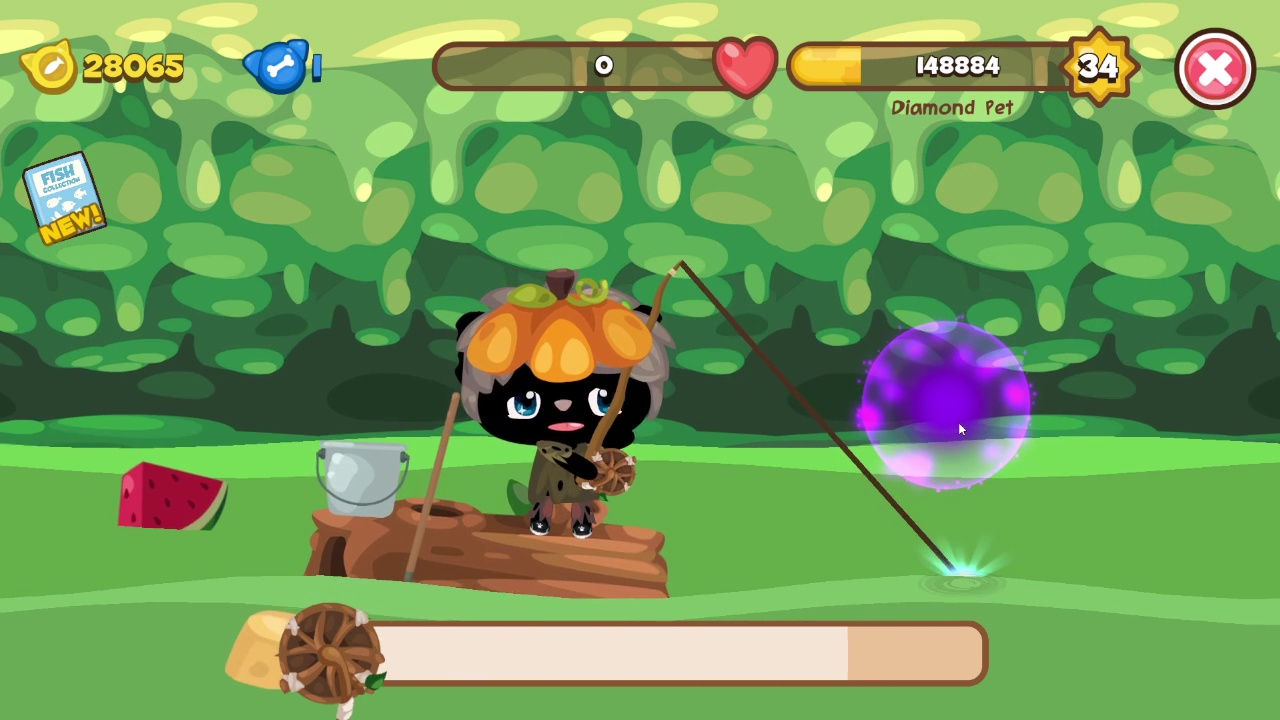point: (859, 318, 1032, 490)
